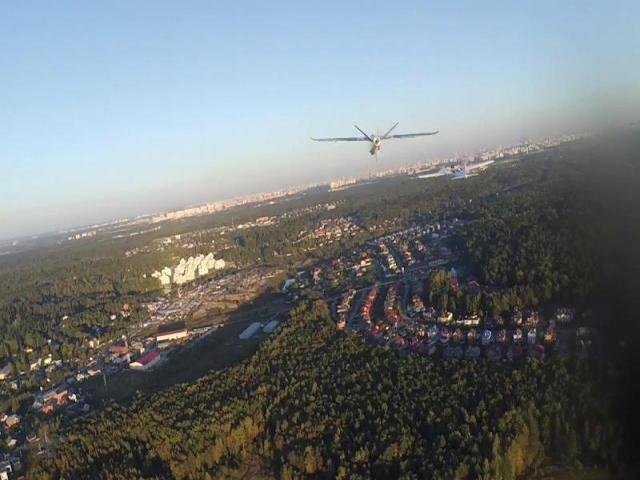hedef: (303, 110, 446, 168)
